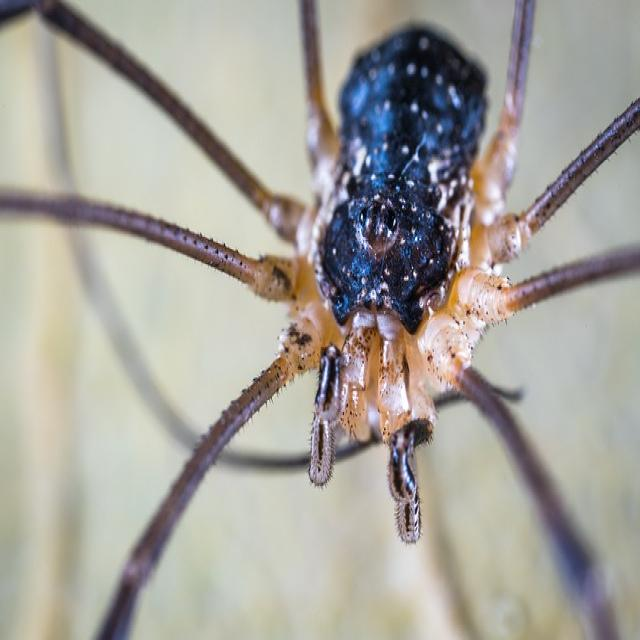spyder: (0, 0, 640, 637)
